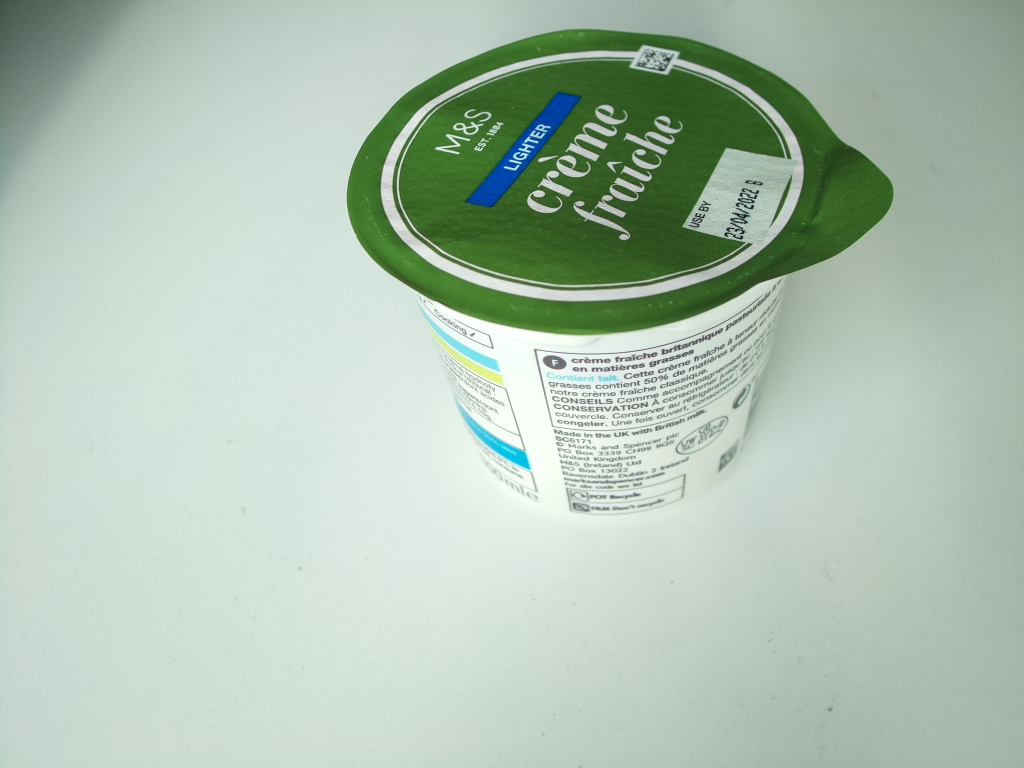cream: (342, 28, 894, 526)
